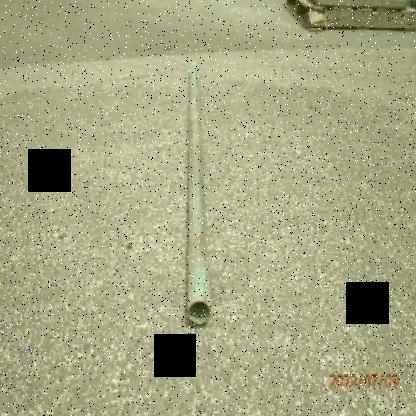pipe: (188, 300, 211, 326)
